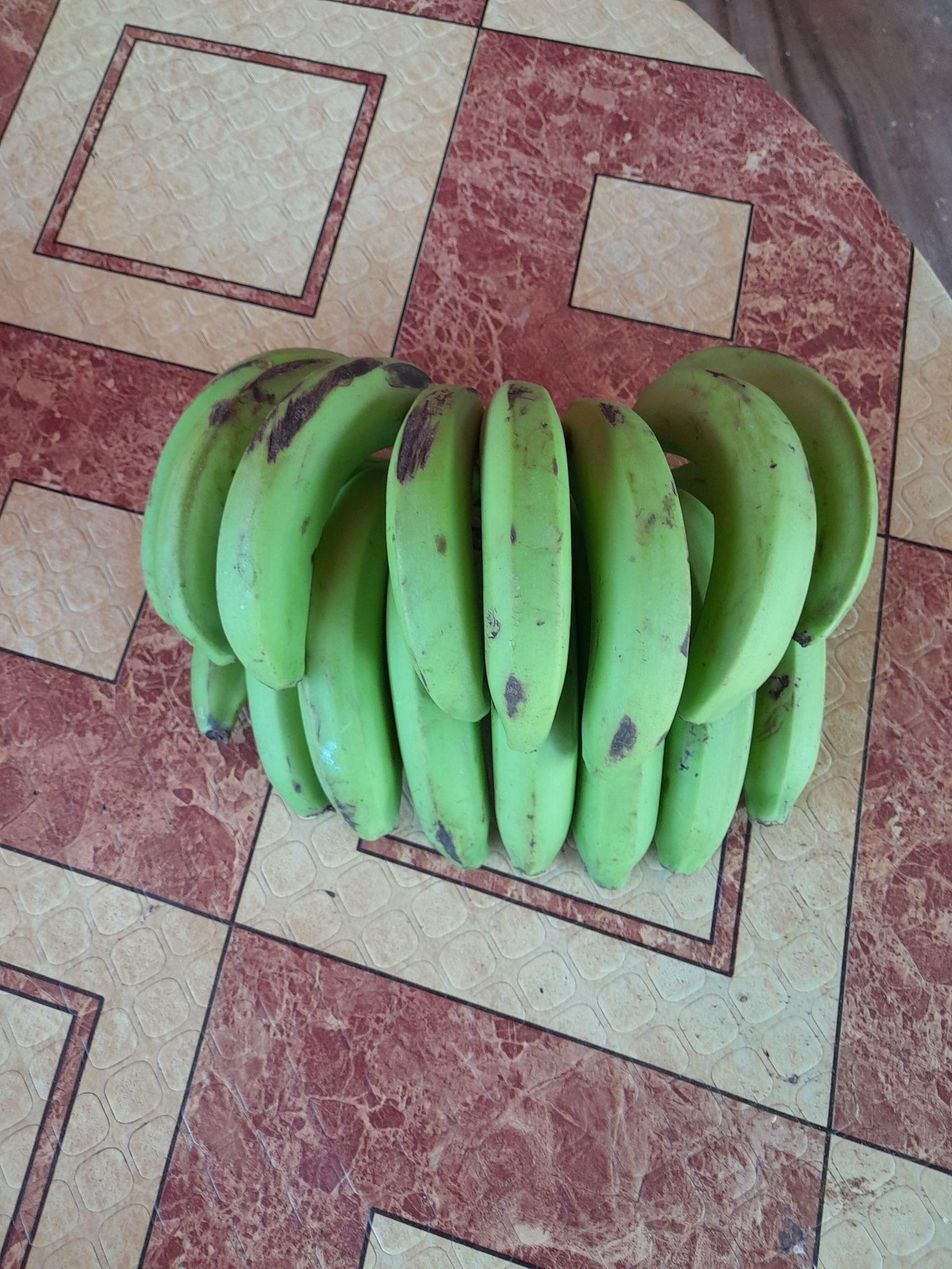Banana Unripe: (216, 357, 431, 689), (635, 367, 816, 724), (141, 349, 340, 667), (563, 399, 692, 887), (674, 347, 878, 647), (298, 466, 402, 840), (387, 384, 491, 721), (481, 382, 573, 753), (387, 590, 491, 867), (654, 694, 756, 875), (491, 667, 578, 875), (744, 639, 826, 825), (245, 674, 330, 815), (191, 647, 248, 741)
